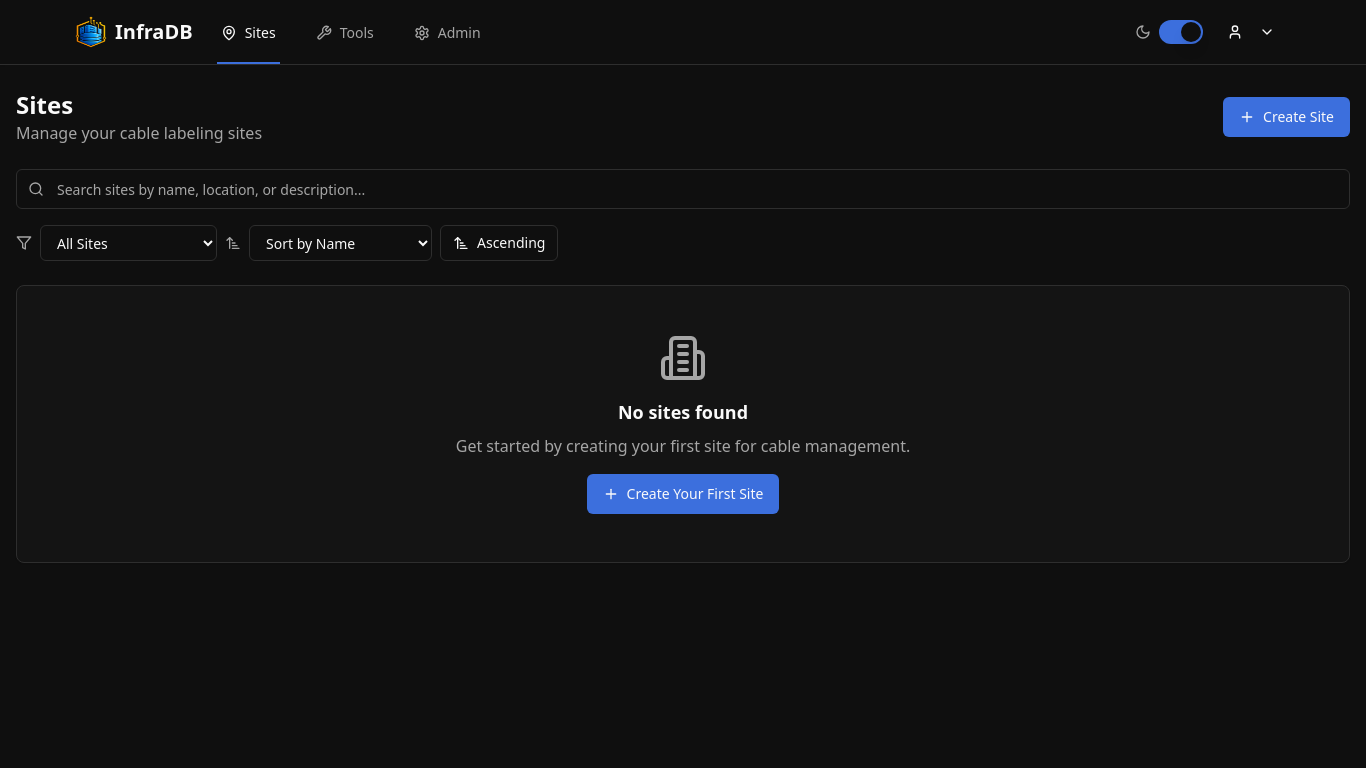
Error Scenarios Integration Tests › should handle form validation errors
Expected: the heading "Sites" is shown, x1=16 y1=88 x2=73 y2=121
// Click create site button
What coordinates should you click on to do the following:
click the button "Create Site"
I would click on:
 (1286, 117)
Its box is x1=1223 y1=97 x2=1350 y2=137.
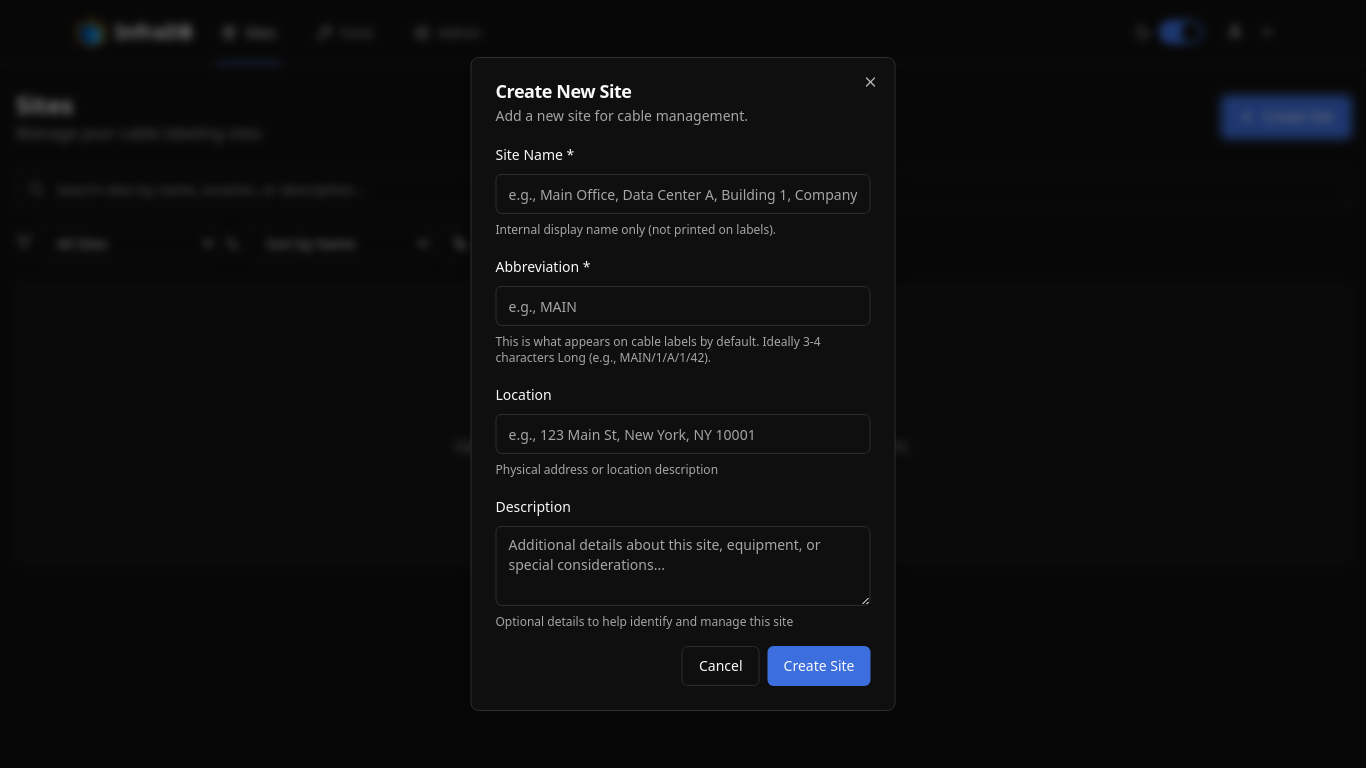
Expected: the heading "Create New Site" is shown, x1=496 y1=79 x2=632 y2=103
What coordinates should you click on to do the following:
click the button "Create Site"
I would click on:
 (819, 666)
Its box is x1=768 y1=646 x2=870 y2=686.
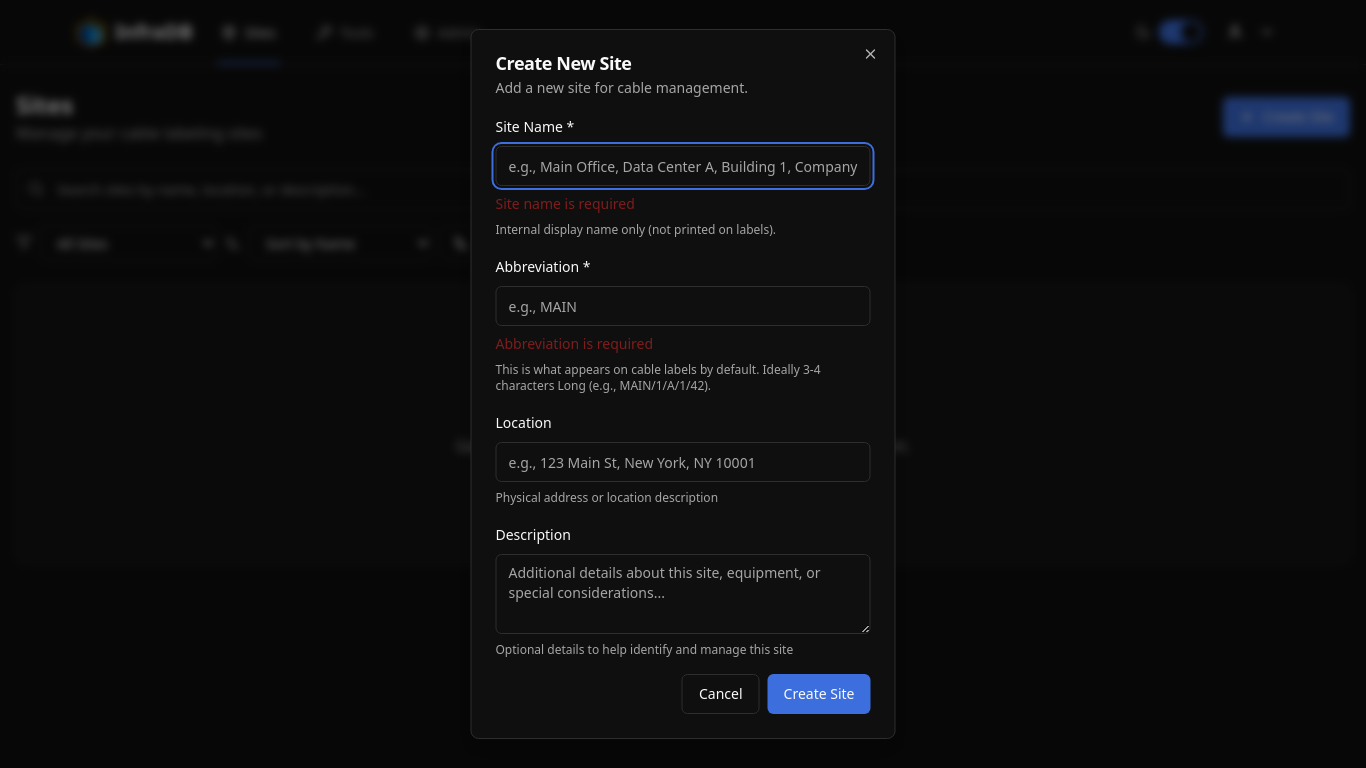
Expected: the text "Site name is required" is shown, x1=496 y1=194 x2=635 y2=213
